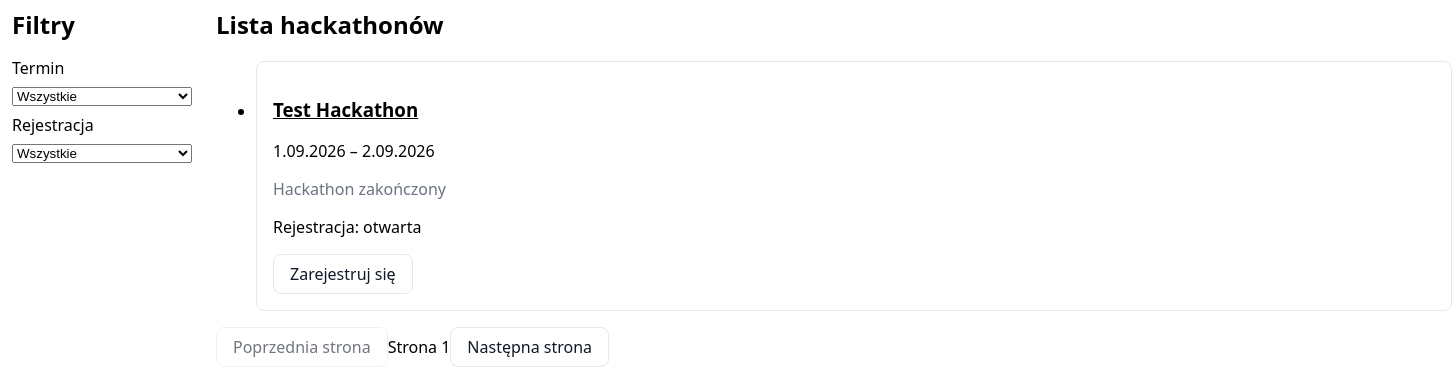
it: HackathonList › loads hackathons page by page using the total count
The image size is (1452, 384).
Expected: the heading "Test Hackathon" is shown, top-left (273, 96), bottom-right (418, 122)
Click the button "Następna strona": (530, 347) top-left (450, 327), bottom-right (609, 367)
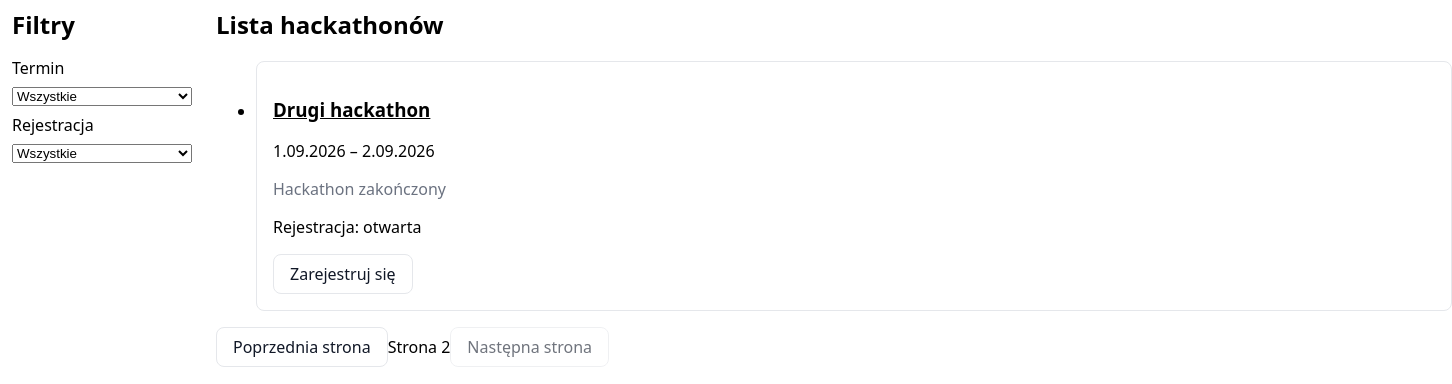
Result: the heading "Drugi hackathon" is shown at top-left (273, 96), bottom-right (430, 122)
Result: the text "Strona 2" is shown at top-left (388, 336), bottom-right (450, 358)
Result: the button "Następna strona" is disabled at top-left (450, 327), bottom-right (609, 367)
